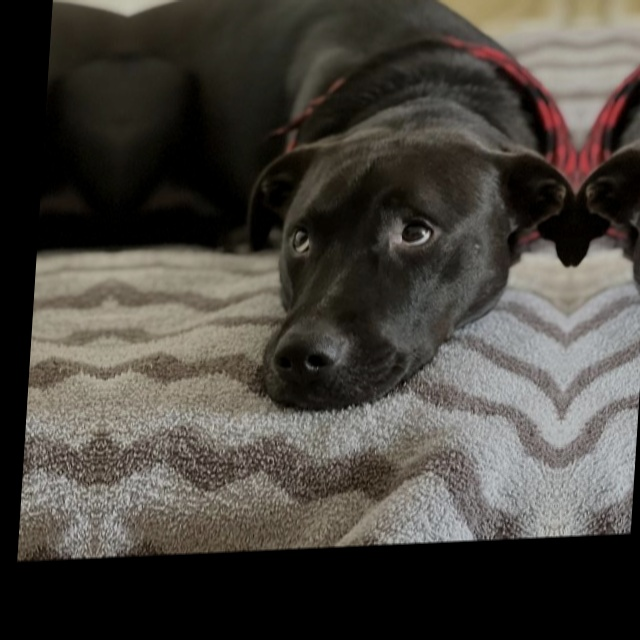dog: (199, 82, 579, 433), (566, 77, 640, 416)
